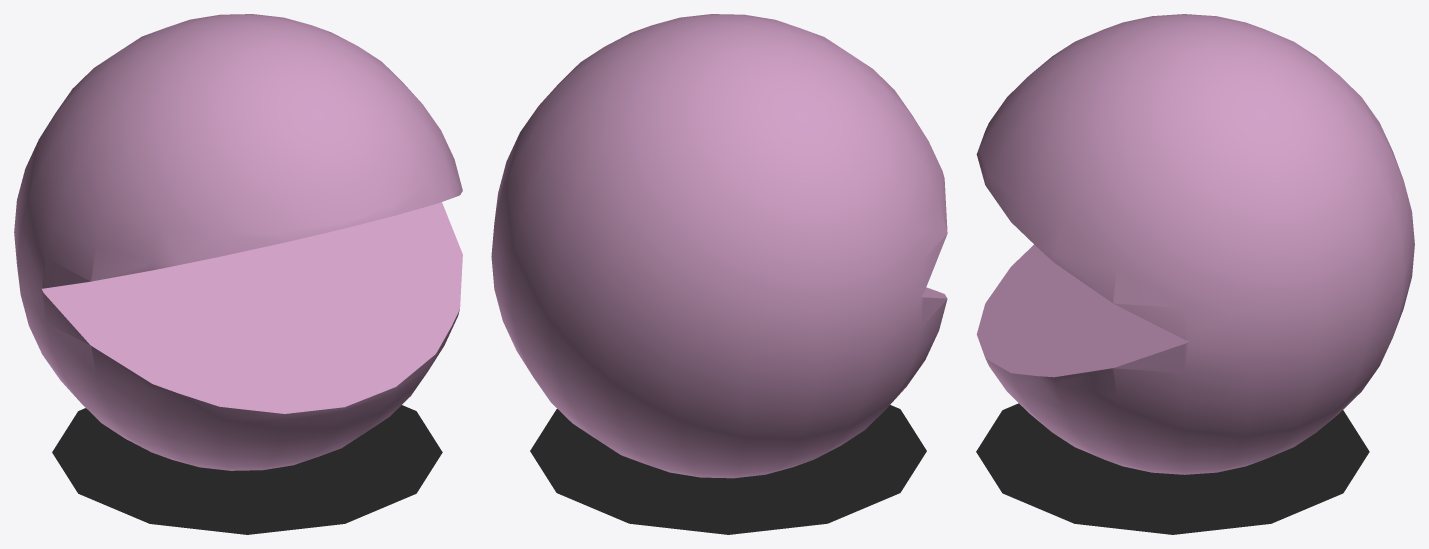
File: pinky.fbx
The picture shows the model from 3 angles, left to right: view 1: azimuth 30°, elevation 25°; view 2: azimuth 150°, elevation 25°; view 3: azimuth 270°, elevation 25°; orthographic projection.
Visible parts, largest first — view 1: pSphere2, pCylinder1; view 2: pSphere2, pCylinder1; view 3: pSphere2, pCylinder1.
Boxes of the visible parts, <box> form: pSphere2: <box>14,14,462,470</box>; pCylinder1: <box>52,405,442,534</box>; pSphere2: <box>491,14,947,478</box>; pCylinder1: <box>530,405,926,534</box>; pSphere2: <box>976,14,1414,474</box>; pCylinder1: <box>976,403,1369,534</box>.
Bounding box in the file's own units: 0.5995 × 0.6 × 0.571.
